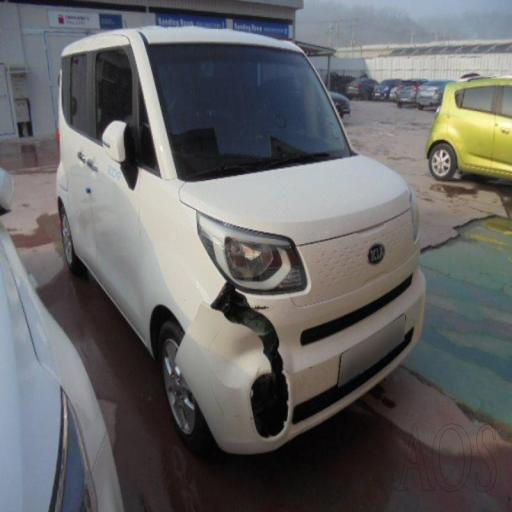broken: (171, 231, 341, 456)
